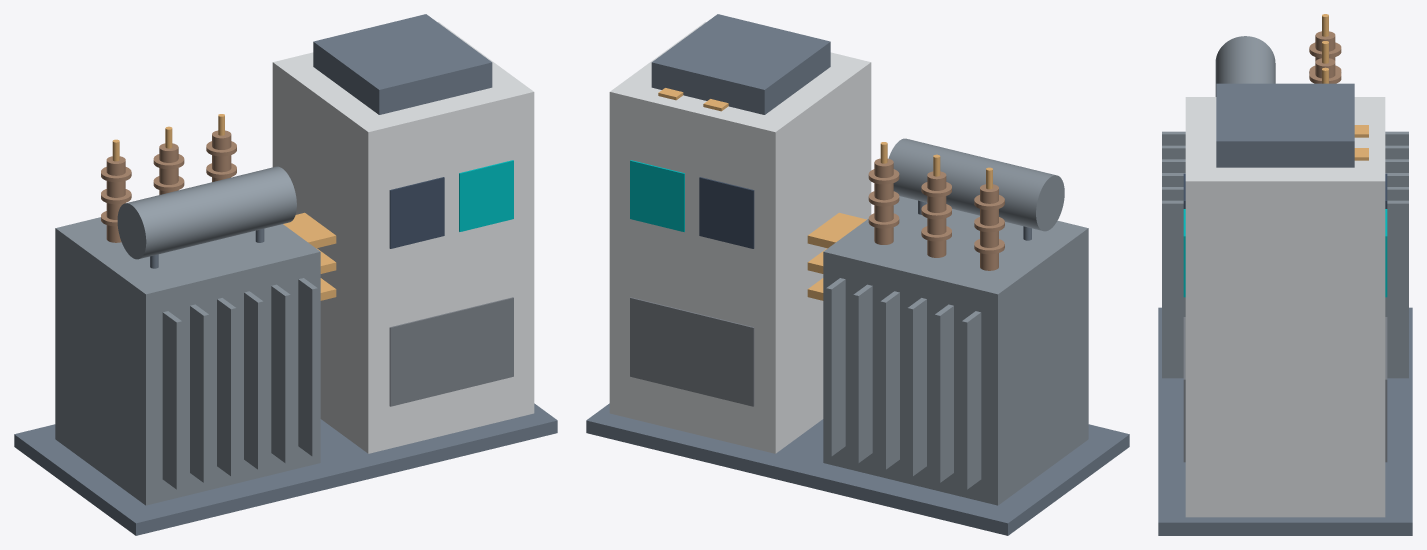
File: ELE-900_Substation_Rectifier.glb
3 views of the same model, side by side, from view 1: azimuth 30°, elevation 25°; view 2: azimuth 150°, elevation 25°; view 3: azimuth 270°, elevation 25° (orthographic). The views are drawn at different scales.
Parts seen in each view (by area): view 1: ELE-900_027__REC901_5000A_Thyristor_Rectifier_Cabinet__SIEME, ELE-900_002__TR901_11kV_Transformer_Tank__TRANSFORMER_STEEL, ELE-900_001__ELE900_Substation_Plinth__STRUCTURAL_SLATE_IS80, ELE-900_031__REC901_Roof_Exhaust_Hood__STRUCTURAL_SLATE_IS80, ELE-900_015__TR901_Oil_Conservator_Drum__TRANSFORMER_STEEL, ELE-900_030__REC901_Cooling_Louver_Grille__SIEMENS_PLINTH_RA, ELE-900_004__TR901_Radiator_Fin_South_1__TRANSFORMER_STEEL, ELE-900_010__TR901_Radiator_Fin_South_4__TRANSFORMER_STEEL, ELE-900_008__TR901_Radiator_Fin_South_3__TRANSFORMER_STEEL, ELE-900_012__TR901_Radiator_Fin_South_5__TRANSFORMER_STEEL, ELE-900_014__TR901_Radiator_Fin_South_6__TRANSFORMER_STEEL, ELE-900_006__TR901_Radiator_Fin_South_2__TRANSFORMER_STEEL (+7 smaller); view 2: ELE-900_027__REC901_5000A_Thyristor_Rectifier_Cabinet__SIEME, ELE-900_002__TR901_11kV_Transformer_Tank__TRANSFORMER_STEEL, ELE-900_001__ELE900_Substation_Plinth__STRUCTURAL_SLATE_IS80, ELE-900_031__REC901_Roof_Exhaust_Hood__STRUCTURAL_SLATE_IS80, ELE-900_030__REC901_Cooling_Louver_Grille__SIEMENS_PLINTH_RA, ELE-900_015__TR901_Oil_Conservator_Drum__TRANSFORMER_STEEL, ELE-900_003__TR901_Radiator_Fin_North_1__TRANSFORMER_STEEL, ELE-900_009__TR901_Radiator_Fin_North_4__TRANSFORMER_STEEL, ELE-900_007__TR901_Radiator_Fin_North_3__TRANSFORMER_STEEL, ELE-900_011__TR901_Radiator_Fin_North_5__TRANSFORMER_STEEL, ELE-900_013__TR901_Radiator_Fin_North_6__TRANSFORMER_STEEL, ELE-900_005__TR901_Radiator_Fin_North_2__TRANSFORMER_STEEL (+9 smaller); view 3: ELE-900_027__REC901_5000A_Thyristor_Rectifier_Cabinet__SIEME, ELE-900_001__ELE900_Substation_Plinth__STRUCTURAL_SLATE_IS80, ELE-900_031__REC901_Roof_Exhaust_Hood__STRUCTURAL_SLATE_IS80, ELE-900_013__TR901_Radiator_Fin_North_6__TRANSFORMER_STEEL, ELE-900_014__TR901_Radiator_Fin_South_6__TRANSFORMER_STEEL, ELE-900_015__TR901_Oil_Conservator_Drum__TRANSFORMER_STEEL, ELE-900_030__REC901_Cooling_Louver_Grille__SIEMENS_PLINTH_RA, ELE-900_029__REC901_Sinamics_DCP_Controller__SIEMENS_PETROL_, ELE-900_003__TR901_Radiator_Fin_North_1__TRANSFORMER_STEEL, ELE-900_004__TR901_Radiator_Fin_South_1__TRANSFORMER_STEEL, ELE-900_005__TR901_Radiator_Fin_North_2__TRANSFORMER_STEEL, ELE-900_006__TR901_Radiator_Fin_South_2__TRANSFORMER_STEEL (+4 smaller).
Boxes of the visible parts, x1,y1,x2,y2 form: ELE-900_027__REC901_5000A_Thyristor_Rectifier_Cabinet__SIEME: [272, 22, 534, 453]; ELE-900_002__TR901_11kV_Transformer_Tank__TRANSFORMER_STEEL: [55, 217, 320, 505]; ELE-900_001__ELE900_Substation_Plinth__STRUCTURAL_SLATE_IS80: [14, 403, 557, 535]; ELE-900_031__REC901_Roof_Exhaust_Hood__STRUCTURAL_SLATE_IS80: [313, 14, 492, 114]; ELE-900_015__TR901_Oil_Conservator_Drum__TRANSFORMER_STEEL: [117, 166, 296, 259]; ELE-900_030__REC901_Cooling_Louver_Grille__SIEMENS_PLINTH_RA: [389, 297, 513, 406]; ELE-900_004__TR901_Radiator_Fin_South_1__TRANSFORMER_STEEL: [162, 311, 181, 489]; ELE-900_010__TR901_Radiator_Fin_South_4__TRANSFORMER_STEEL: [244, 291, 263, 469]; ELE-900_008__TR901_Radiator_Fin_South_3__TRANSFORMER_STEEL: [217, 298, 236, 476]; ELE-900_012__TR901_Radiator_Fin_South_5__TRANSFORMER_STEEL: [271, 284, 290, 462]; ELE-900_014__TR901_Radiator_Fin_South_6__TRANSFORMER_STEEL: [298, 278, 317, 456]; ELE-900_006__TR901_Radiator_Fin_South_2__TRANSFORMER_STEEL: [190, 304, 209, 482]; ELE-900_027__REC901_5000A_Thyristor_Rectifier_Cabinet__SIEME: [609, 22, 871, 453]; ELE-900_002__TR901_11kV_Transformer_Tank__TRANSFORMER_STEEL: [823, 196, 1088, 505]; ELE-900_001__ELE900_Substation_Plinth__STRUCTURAL_SLATE_IS80: [586, 403, 1129, 535]; ELE-900_031__REC901_Roof_Exhaust_Hood__STRUCTURAL_SLATE_IS80: [651, 14, 830, 114]; ELE-900_030__REC901_Cooling_Louver_Grille__SIEMENS_PLINTH_RA: [630, 297, 754, 406]; ELE-900_015__TR901_Oil_Conservator_Drum__TRANSFORMER_STEEL: [888, 138, 1064, 231]; ELE-900_003__TR901_Radiator_Fin_North_1__TRANSFORMER_STEEL: [962, 311, 981, 489]; ELE-900_009__TR901_Radiator_Fin_North_4__TRANSFORMER_STEEL: [880, 291, 899, 469]; ELE-900_007__TR901_Radiator_Fin_North_3__TRANSFORMER_STEEL: [907, 298, 926, 476]; ELE-900_011__TR901_Radiator_Fin_North_5__TRANSFORMER_STEEL: [853, 284, 872, 462]; ELE-900_013__TR901_Radiator_Fin_North_6__TRANSFORMER_STEEL: [826, 278, 845, 456]; ELE-900_005__TR901_Radiator_Fin_North_2__TRANSFORMER_STEEL: [934, 304, 953, 482]; ELE-900_027__REC901_5000A_Thyristor_Rectifier_Cabinet__SIEME: [1185, 97, 1385, 517]; ELE-900_001__ELE900_Substation_Plinth__STRUCTURAL_SLATE_IS80: [1158, 307, 1412, 535]; ELE-900_031__REC901_Roof_Exhaust_Hood__STRUCTURAL_SLATE_IS80: [1216, 83, 1354, 167]; ELE-900_013__TR901_Radiator_Fin_North_6__TRANSFORMER_STEEL: [1385, 200, 1408, 378]; ELE-900_014__TR901_Radiator_Fin_South_6__TRANSFORMER_STEEL: [1162, 200, 1185, 378]; ELE-900_015__TR901_Oil_Conservator_Drum__TRANSFORMER_STEEL: [1215, 36, 1275, 96]; ELE-900_030__REC901_Cooling_Louver_Grille__SIEMENS_PLINTH_RA: [1183, 317, 1387, 462]; ELE-900_029__REC901_Sinamics_DCP_Controller__SIEMENS_PETROL_: [1183, 209, 1387, 297]; ELE-900_003__TR901_Radiator_Fin_North_1__TRANSFORMER_STEEL: [1385, 131, 1408, 145]; ELE-900_004__TR901_Radiator_Fin_South_1__TRANSFORMER_STEEL: [1162, 131, 1185, 145]; ELE-900_005__TR901_Radiator_Fin_North_2__TRANSFORMER_STEEL: [1385, 145, 1408, 159]; ELE-900_006__TR901_Radiator_Fin_South_2__TRANSFORMER_STEEL: [1162, 145, 1185, 159].
Size of the model in its own units: 2.8 by 2.28 by 1.4.
